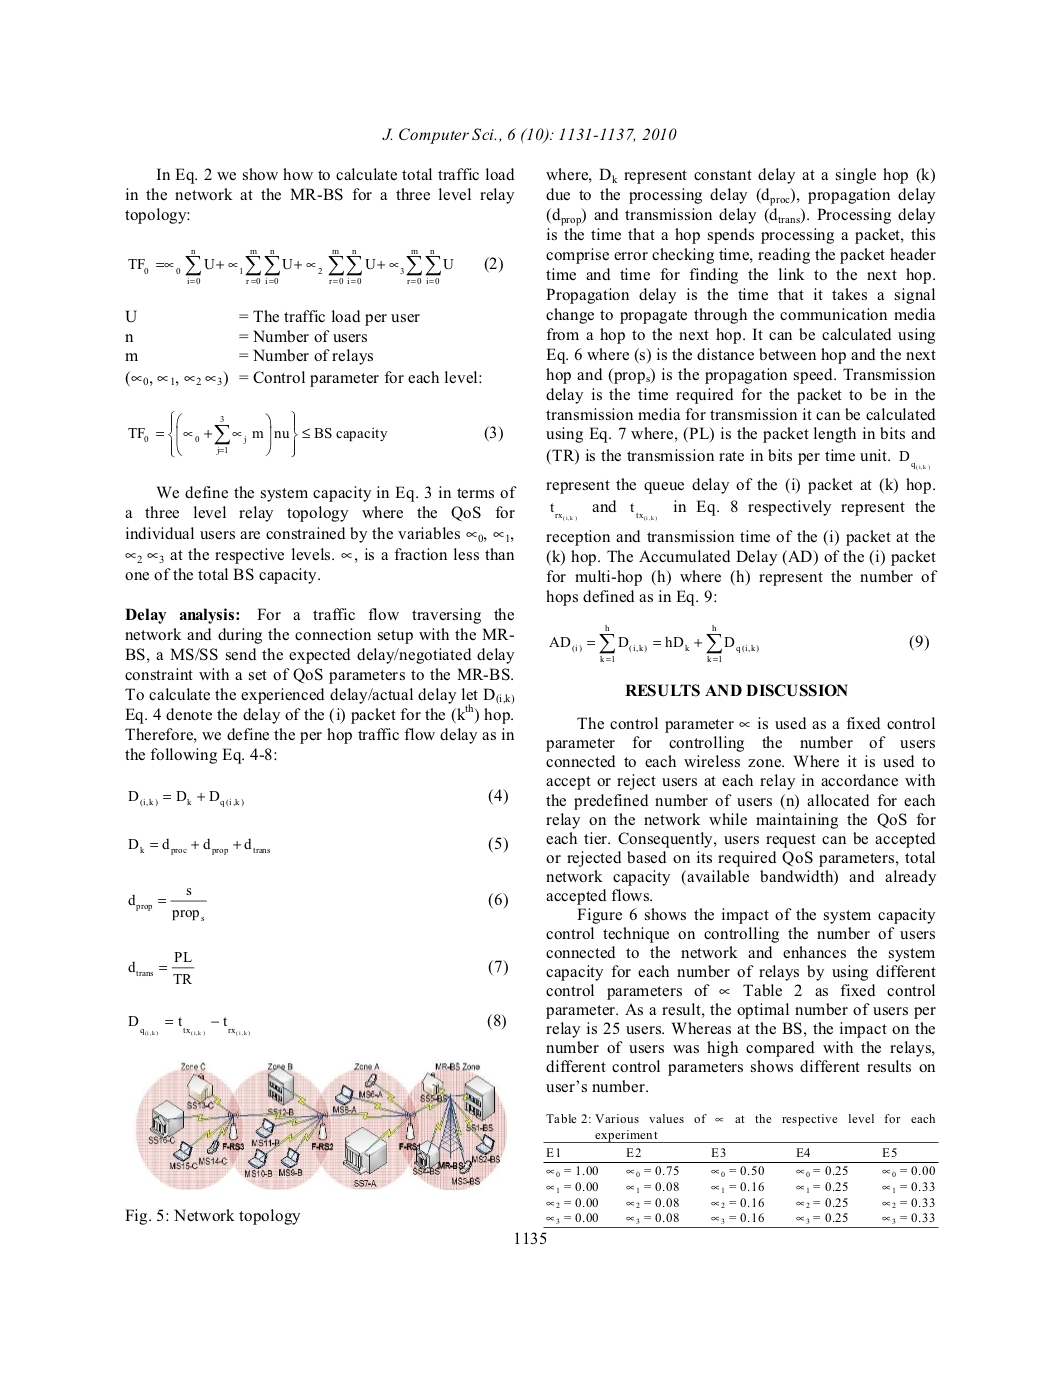Table: (543, 1114, 938, 1227)
figure: (135, 1061, 506, 1190)
formula: (128, 410, 502, 458), (549, 623, 928, 662), (128, 249, 502, 284), (128, 887, 507, 921), (128, 951, 507, 984), (128, 1012, 505, 1036), (128, 788, 507, 807), (128, 836, 507, 855)
